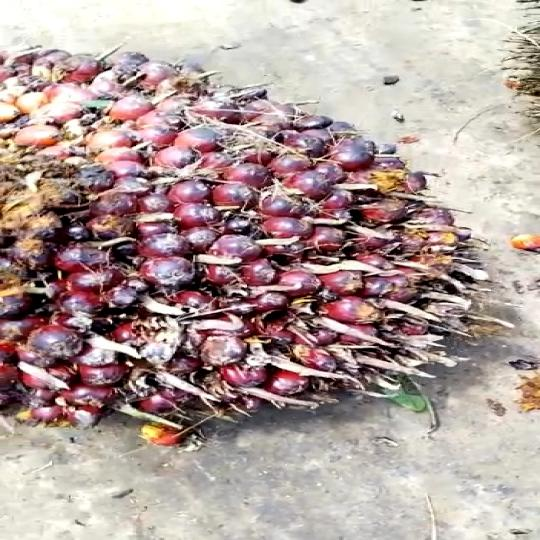masak: (0, 43, 506, 455)
